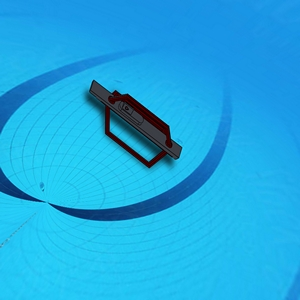submarine: (89, 81, 180, 167)
